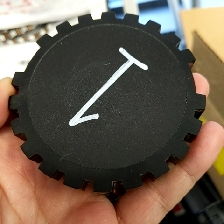gear: (6, 10, 208, 196)
missing: (10, 30, 53, 90), (179, 46, 208, 112)
